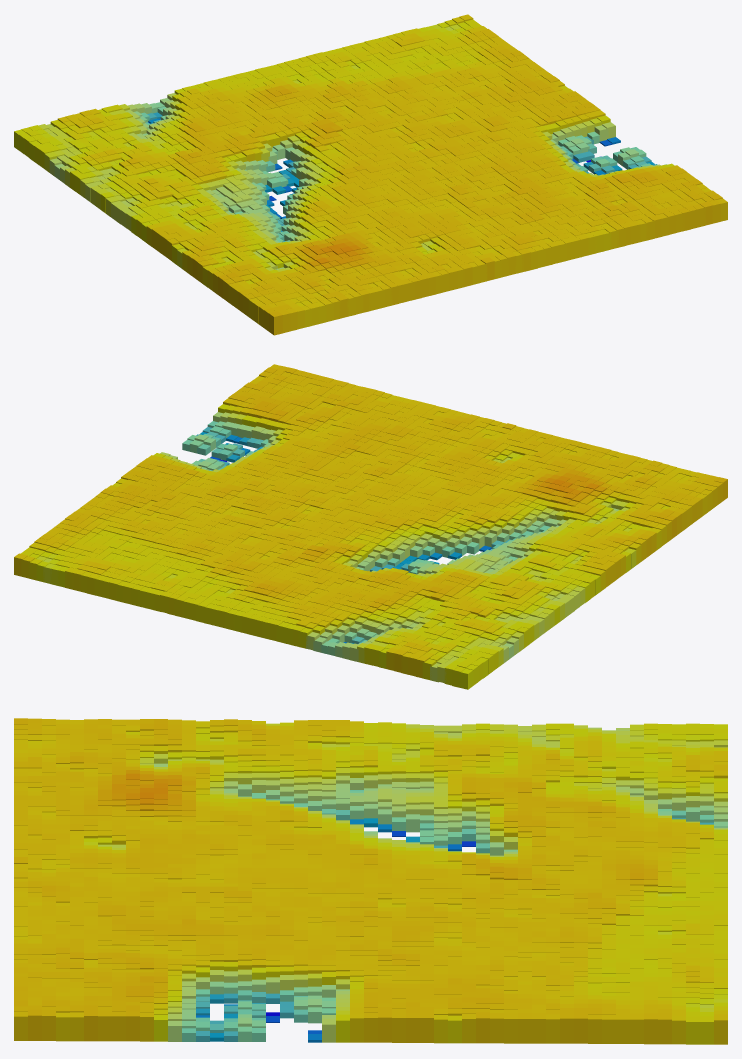
The model's file is population.glb.
The picture shows the model from 3 angles, top to bottom: view 1: azimuth 30°, elevation 25°; view 2: azimuth 150°, elevation 25°; view 3: azimuth 270°, elevation 25°; orthographic projection. The views are drawn at different scales.
Visible parts, largest first — view 1: population; view 2: population; view 3: population.
Boxes of the visible parts, x1=… form: population: x1=14, y1=14, x2=727, y2=335; population: x1=14, y1=364, x2=727, y2=689; population: x1=14, y1=718, x2=727, y2=1044.
Size of the model in its own units: 5152 by 274 by 5110.
